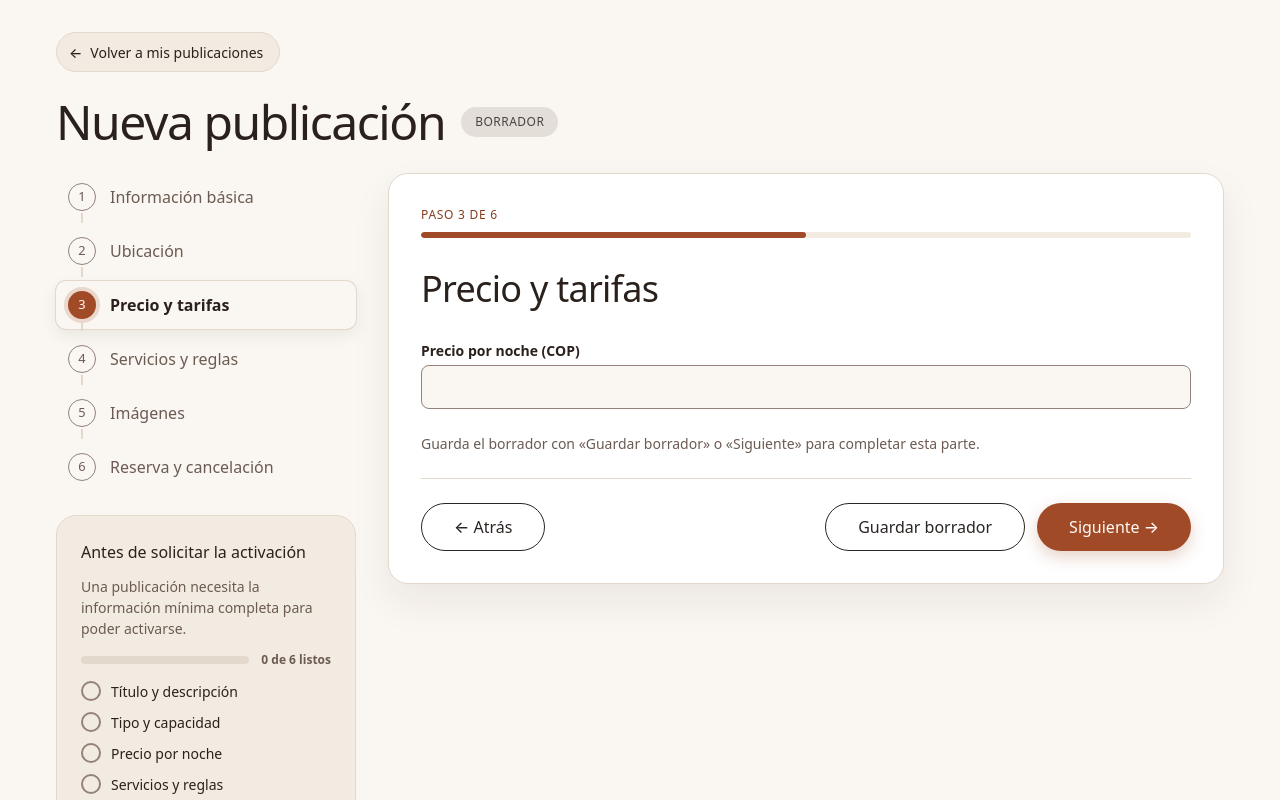
PublicacionFormPage › el precio inválido se muestra junto al campo del paso 3
The image size is (1280, 800).
Click the button "1 Información básica" at (206, 197), box [56,173,356,221]
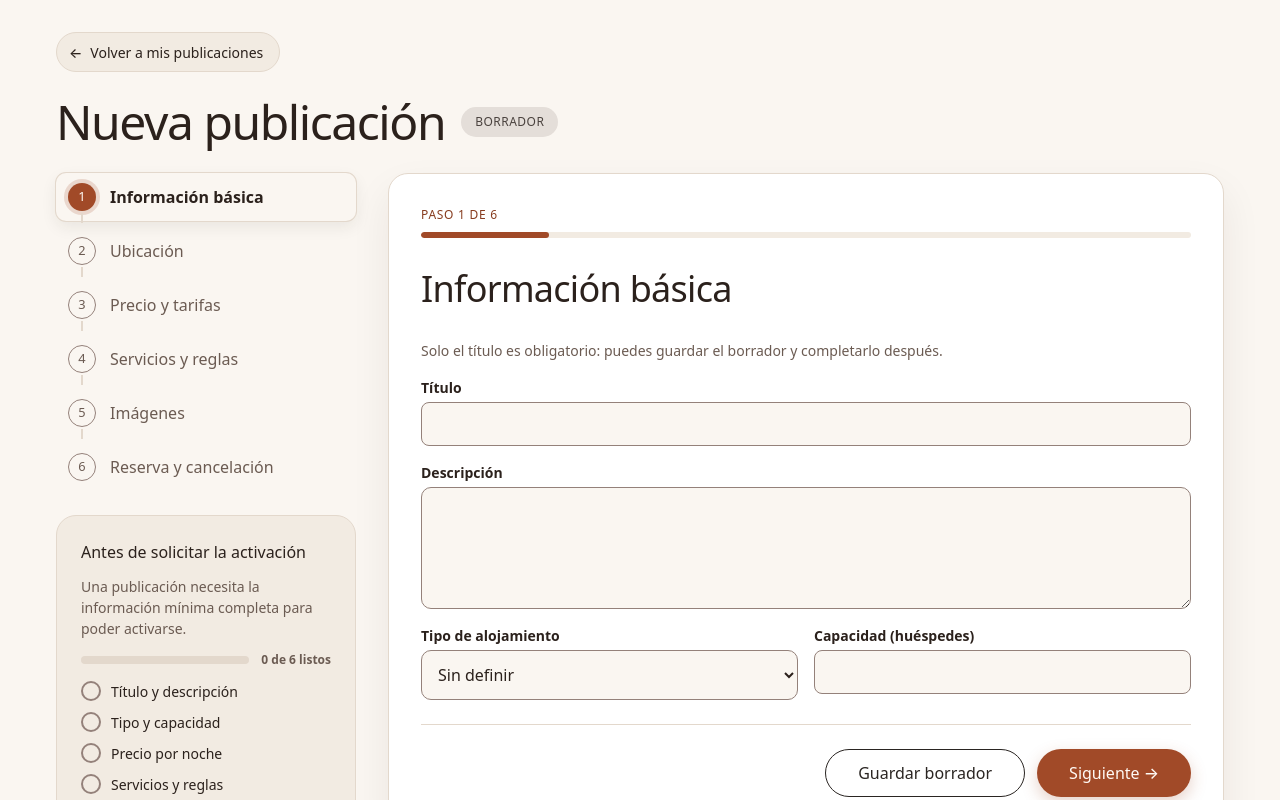
Type "Casa" into the field labelled "Título" at (806, 424), box [421,402,1191,446]
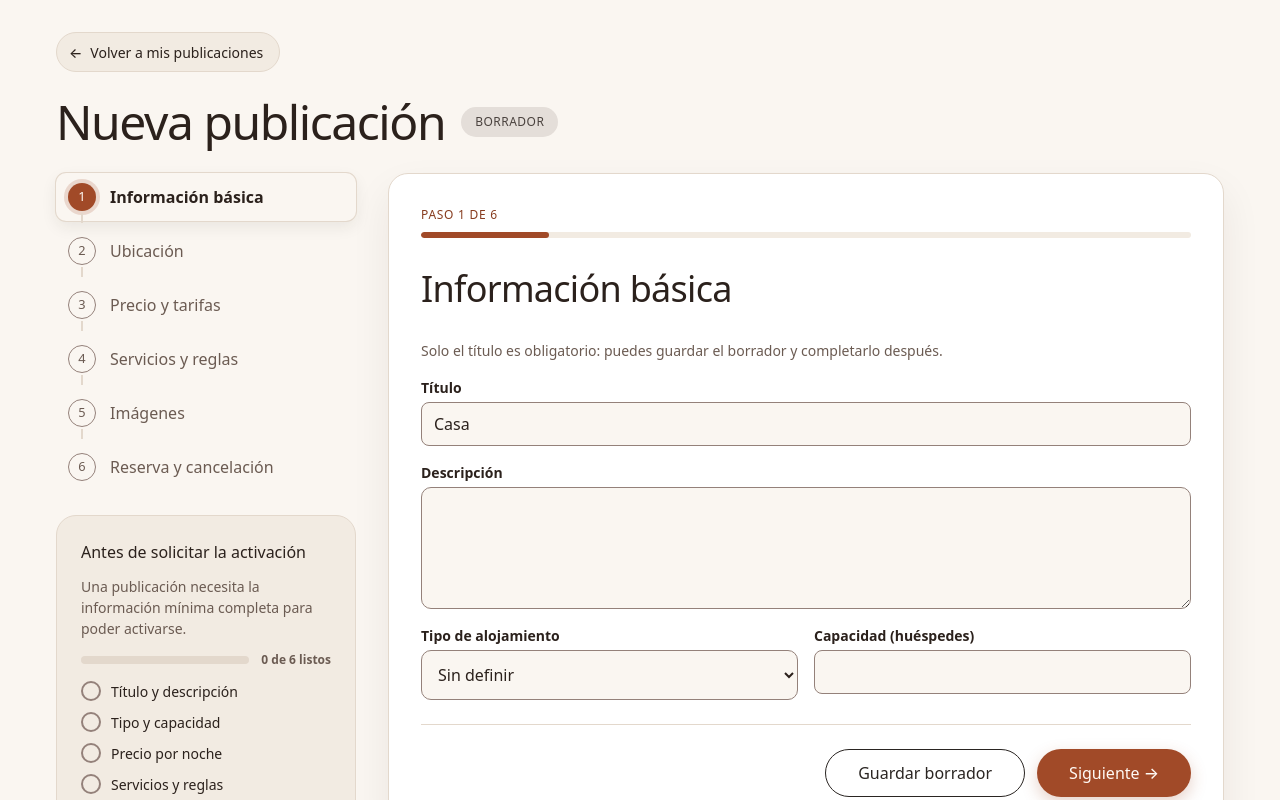
Click the button "3 Precio y tarifas" at (206, 305), box [56,281,356,329]
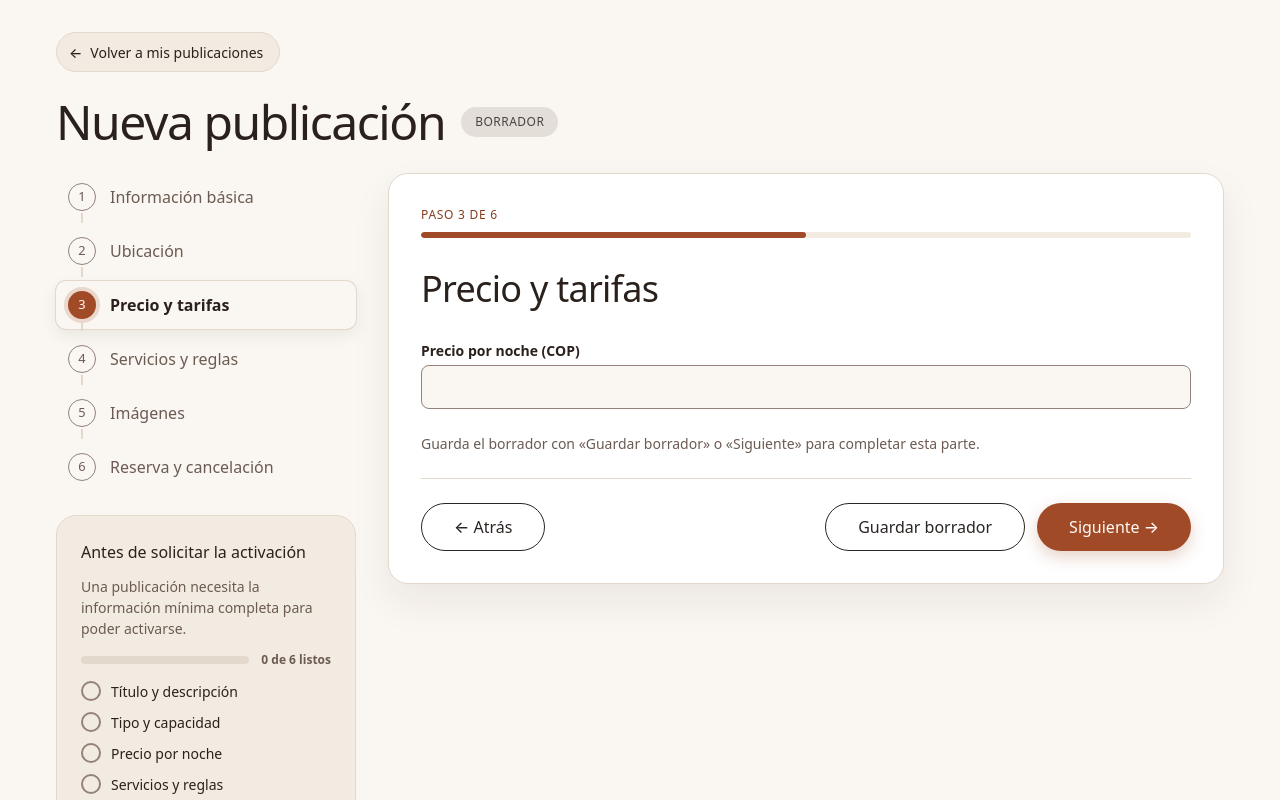
Type "-10" into the field labelled "Precio por noche (COP)" at (806, 387), box [421,365,1191,409]
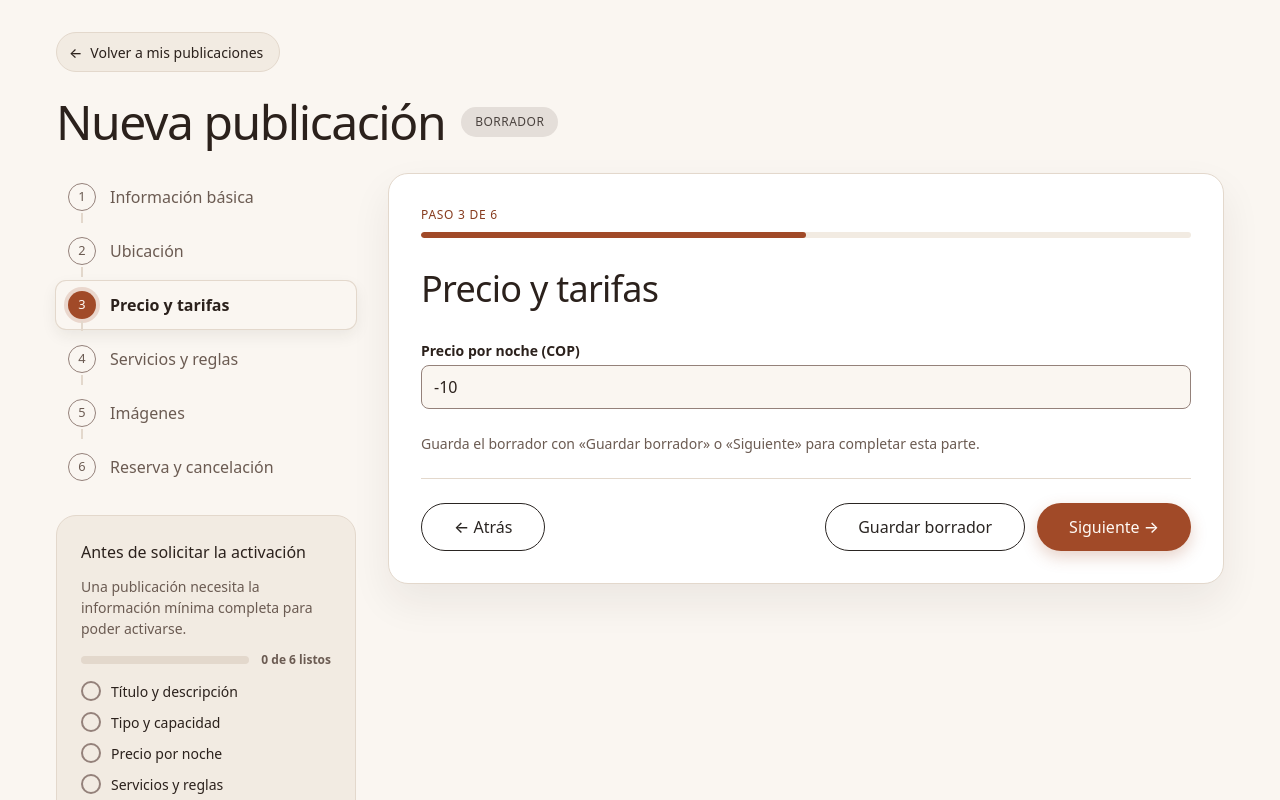
Click the button "Guardar borrador" at (925, 527), box [825,503,1025,551]
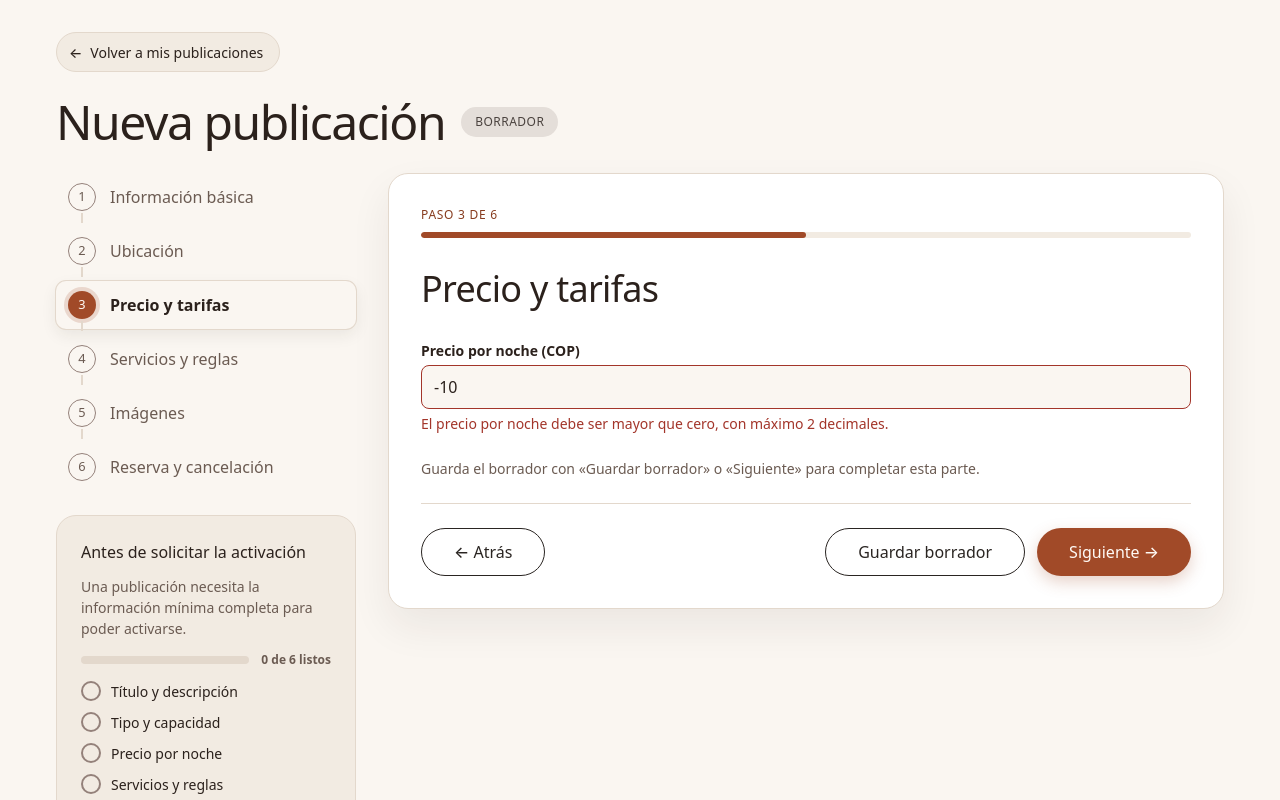
Result: the text "El precio por noche debe ser mayor que cero, con máximo 2 decimales." is shown at [421,414,888,433]
